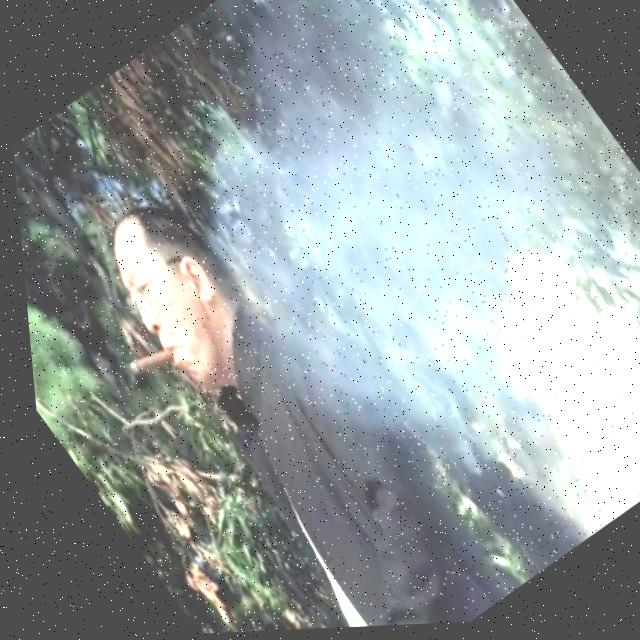Smoke: (176, 0, 640, 621)
